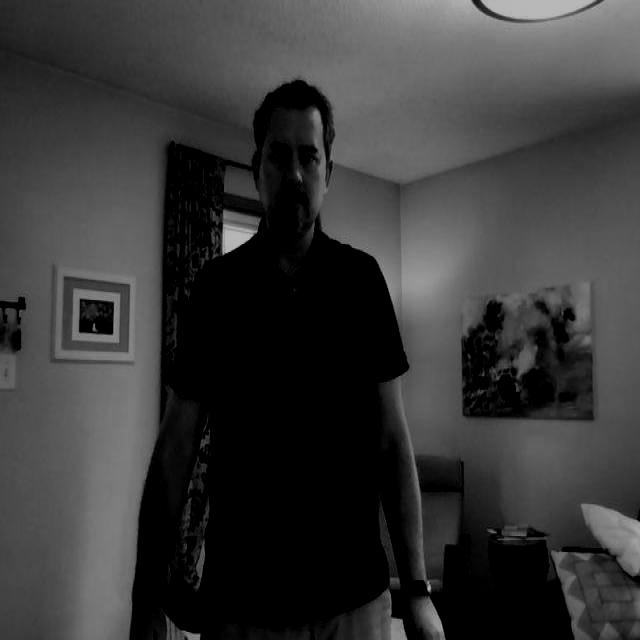real: (254, 105, 334, 236)
